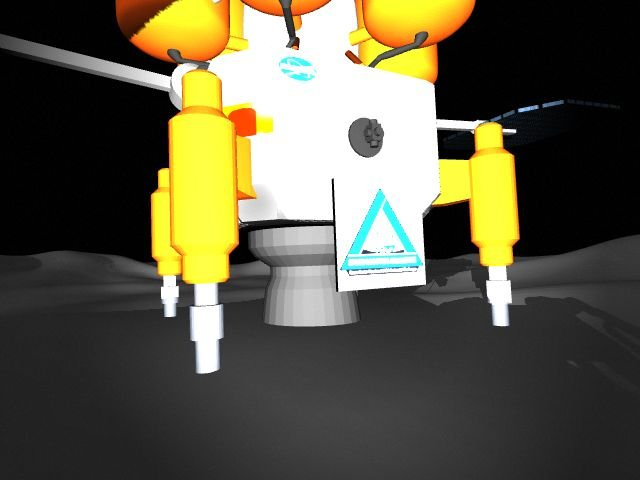basemarker: (335, 186, 427, 277)
